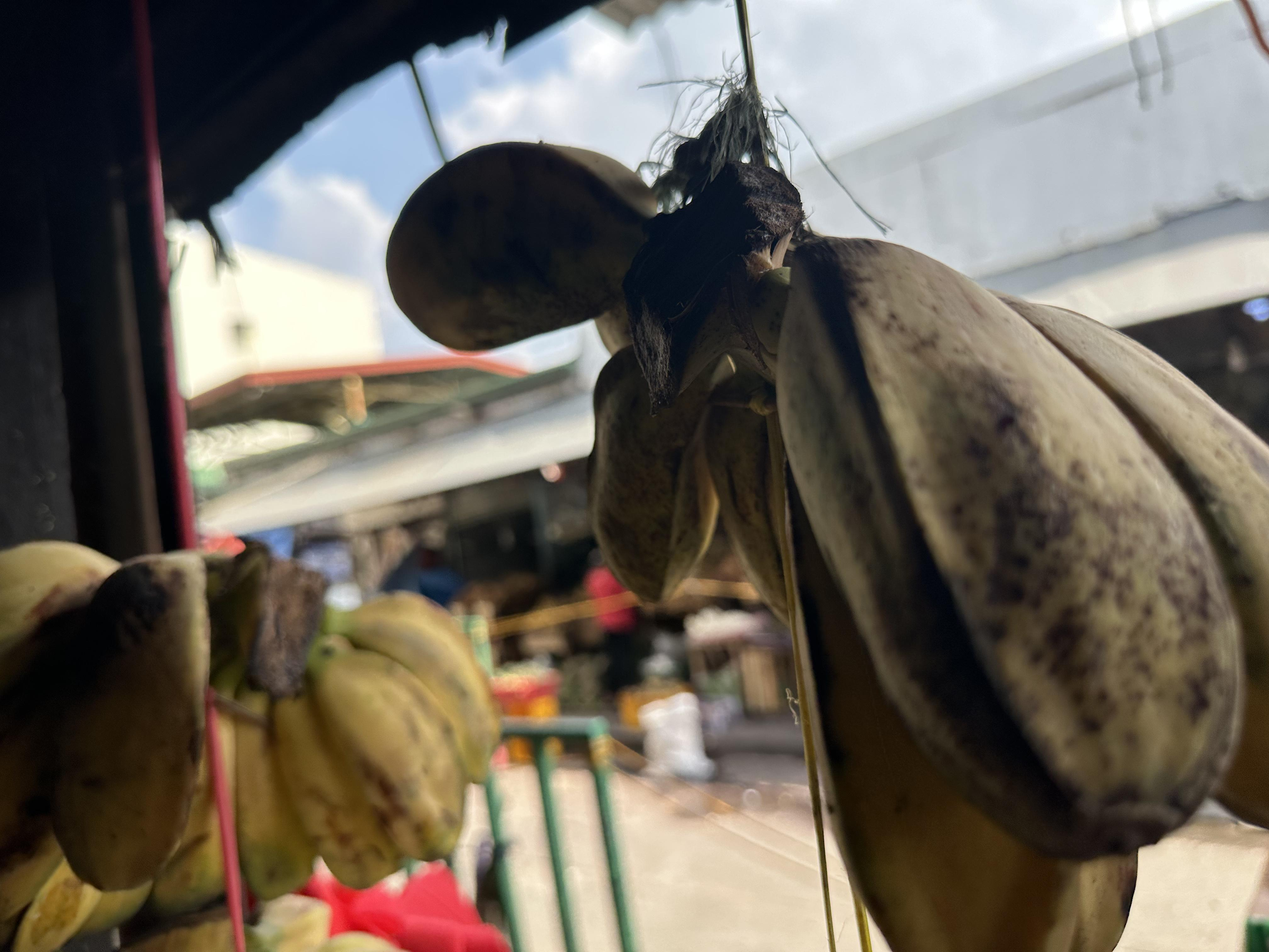underripe: (776, 236, 1269, 952), (386, 142, 786, 620), (0, 542, 223, 949), (230, 593, 499, 899)
